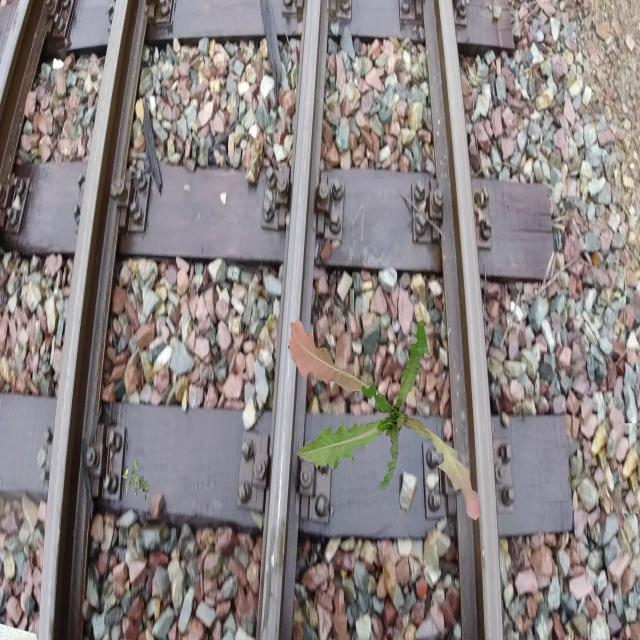Plant: (288, 318, 480, 520), (122, 459, 150, 500)
